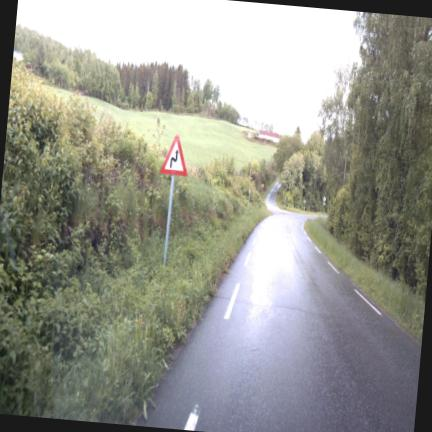Road: (138, 185, 420, 431)
